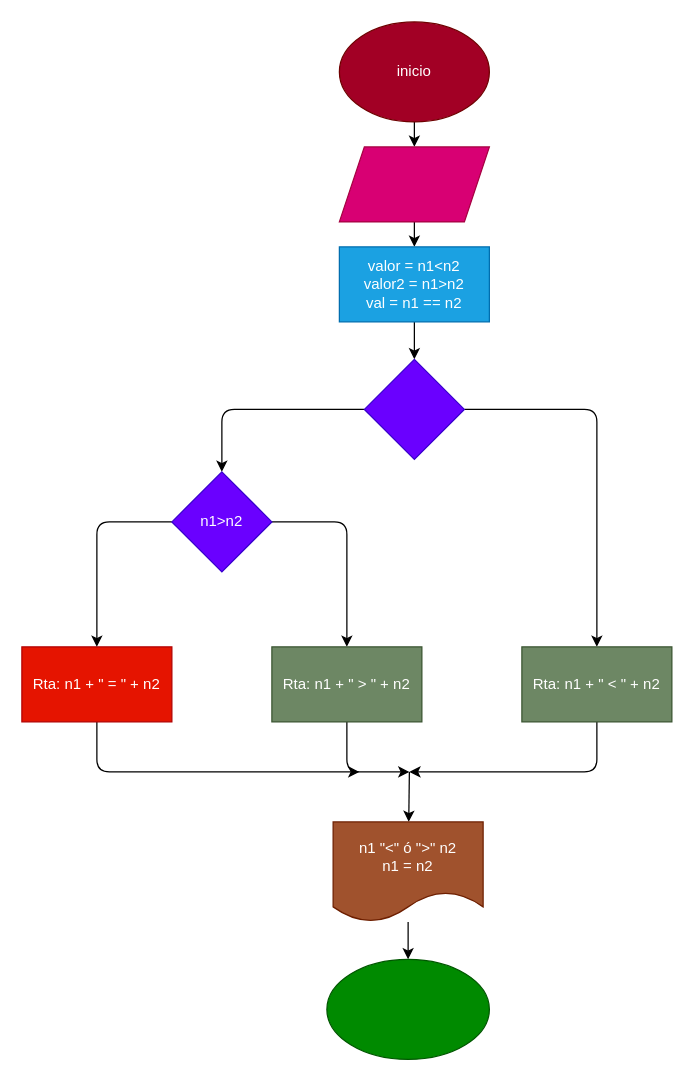
The diagram is 694 pixels wide and 1081 high, and some of its shapes have lost their labels. Here are the shapes that lost their labels. From the top down, the centre of each, then its label:
(413,184): n1 n2
(413,408): n1<n2
(407,1008): FIN
